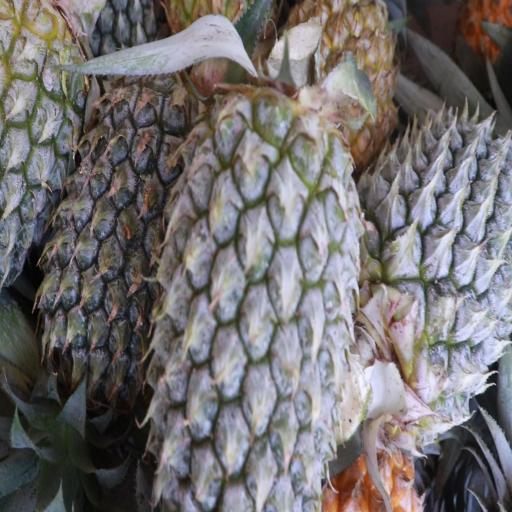Pineapple - v8 v1: (284, 0, 397, 153)
